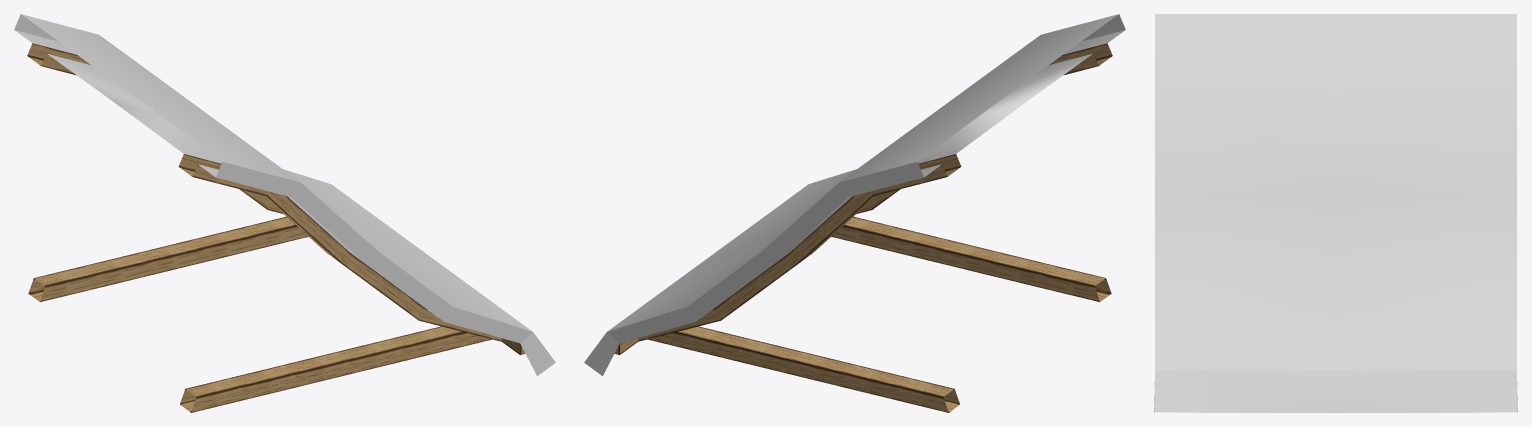
The model's file is SM_world_2_small_roof.fbx.
3 views of the same model, side by side, from view 1: azimuth 30°, elevation 25°; view 2: azimuth 150°, elevation 25°; view 3: azimuth 270°, elevation 25° (orthographic). The views are drawn at different scales.
Visible parts, largest first — view 1: Roof_Temp.001; view 2: Roof_Temp.001; view 3: Roof_Temp.001.
Boxes of the visible parts, x1,y1,x2,y2 form: Roof_Temp.001: [14, 14, 555, 412]; Roof_Temp.001: [584, 14, 1125, 412]; Roof_Temp.001: [1154, 14, 1517, 412].
Bounding box in the file's own units: 1702 × 1733 × 1371.
